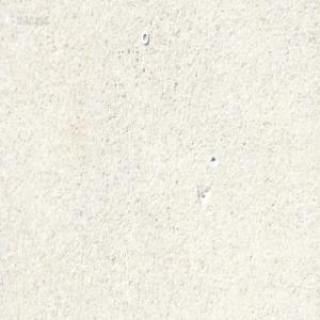Washertrack_idkeyframe: (140, 30, 148, 44)
